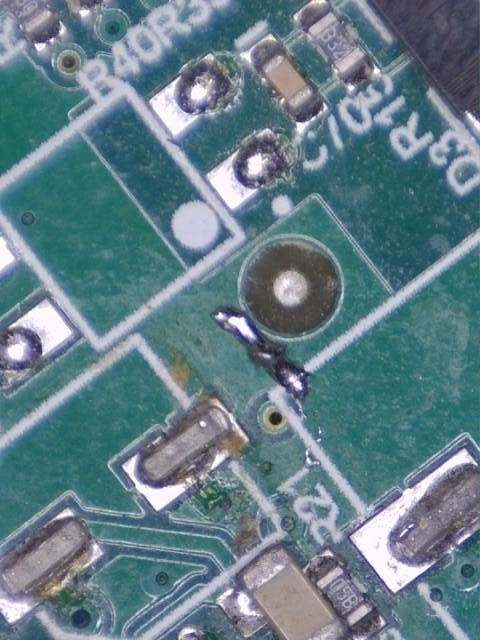pcb_defect: (215, 541, 352, 640)
